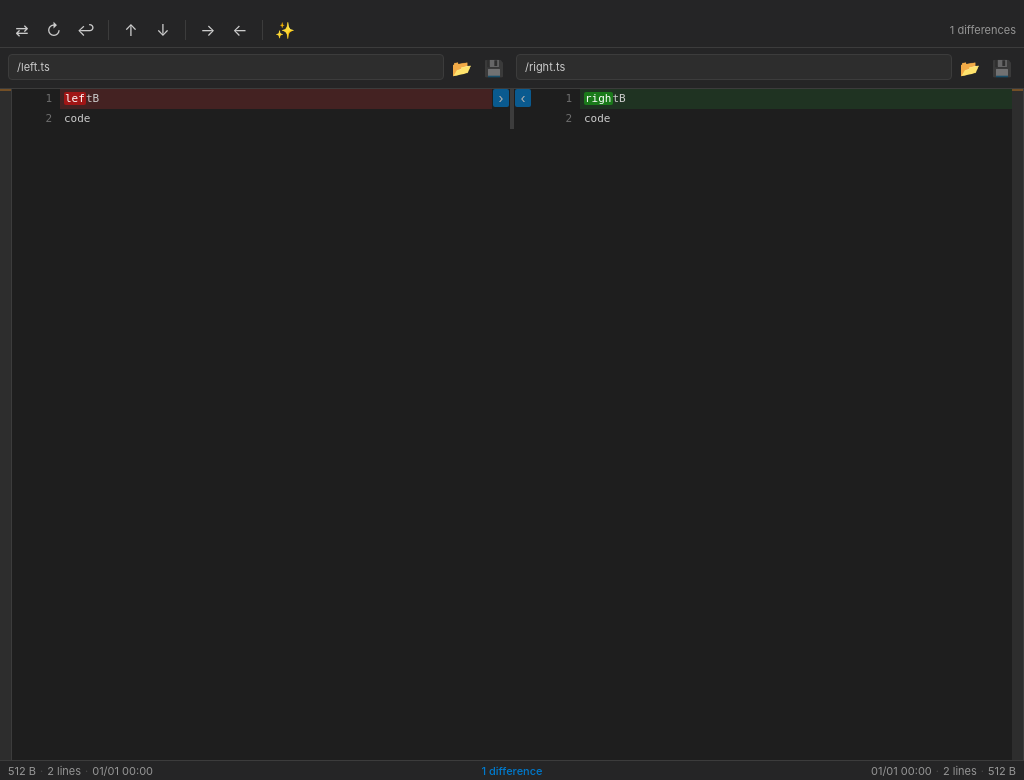
Copy selected rows (feature 5.5) › copy-selected-to-left button copies selected rows and marks left dirty
Expected: the element with class "fd-diff-modified" showing "1 leftB" is shown, x1=12 y1=89 x2=492 y2=109
Click the text with class "fd-line-no" next to "lef" at x=49, y=98, box x1=45 y1=92 x2=52 y2=105
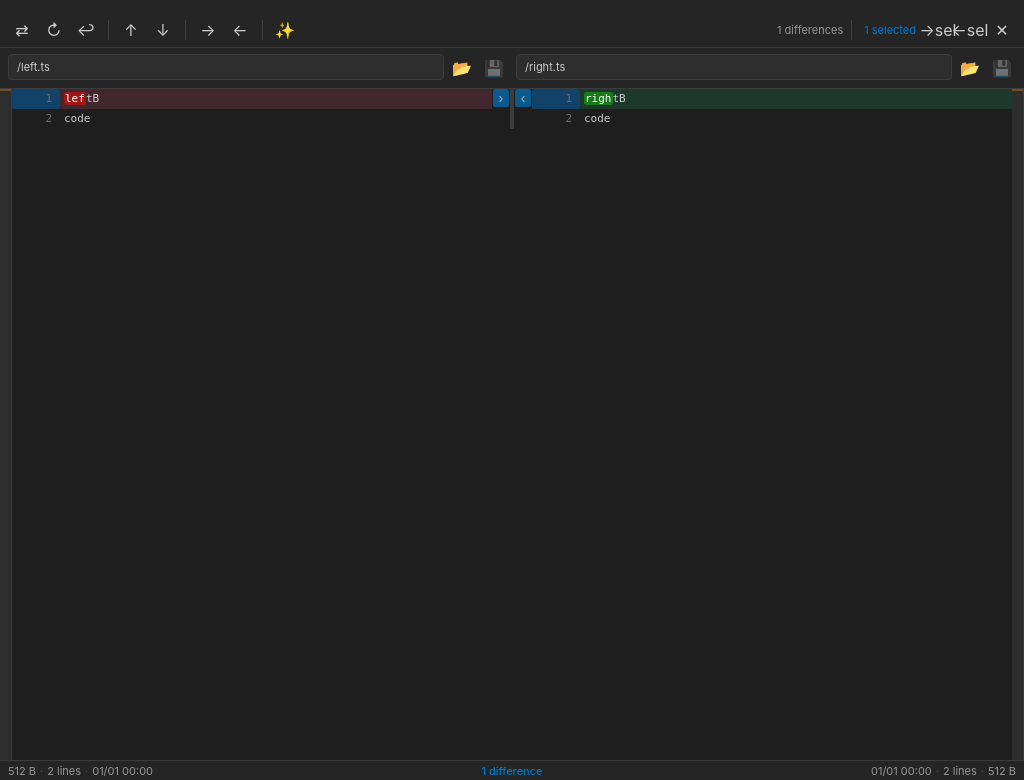
Expected: the text "1 selected" is shown, x1=860 y1=22 x2=920 y2=36
Click the button "←sel" at x=970, y=30, box x1=956 y1=16 x2=984 y2=44
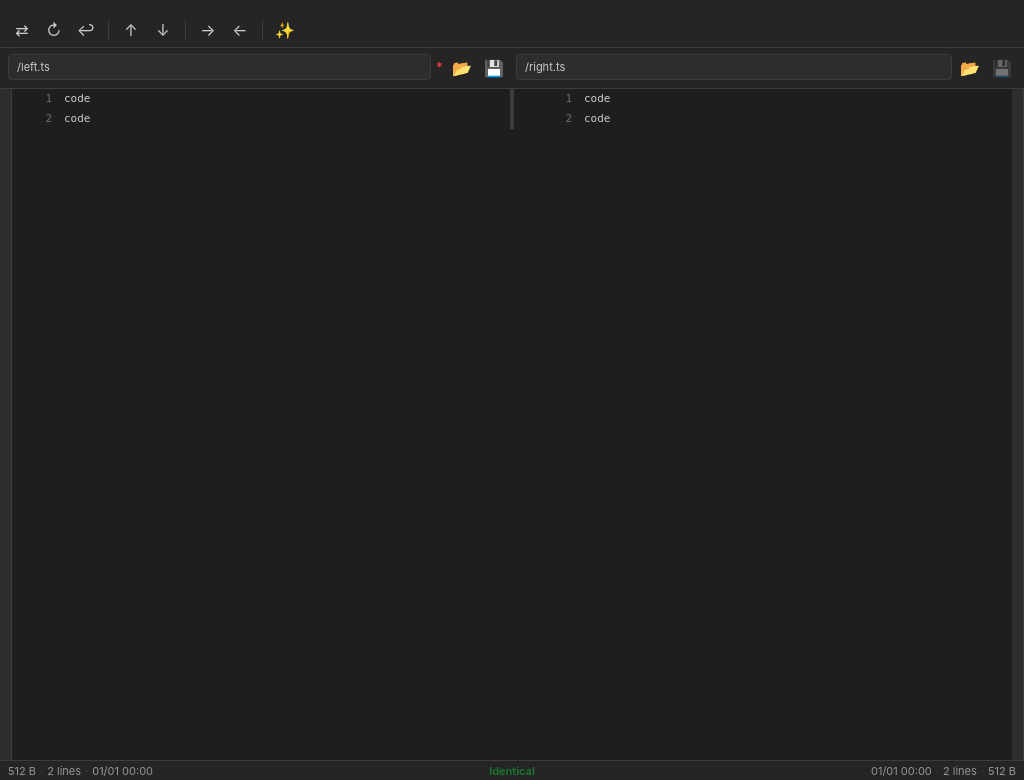
Expected: the element with class "fd-diff-modified" is gone
Expected: the 1st button "💾" is enabled, x1=480 y1=54 x2=508 y2=82
